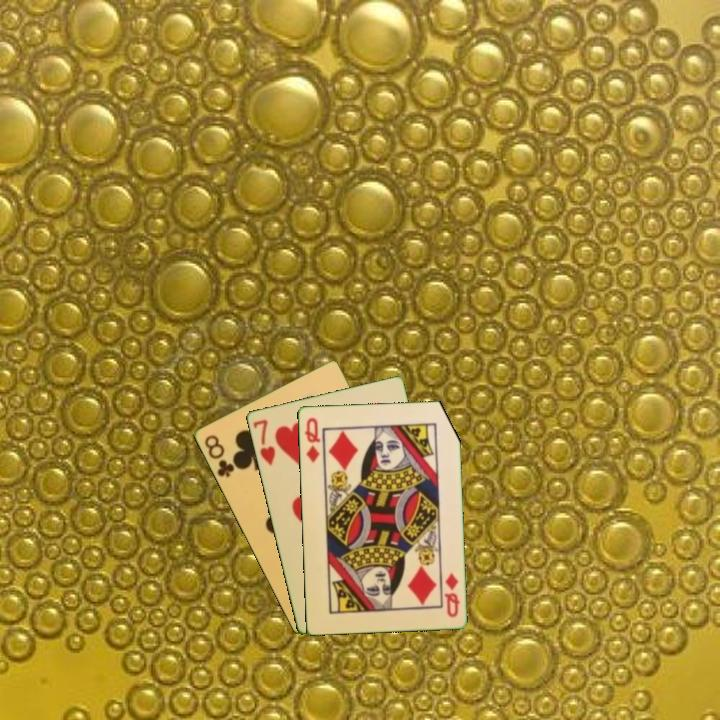7h: (249, 416, 278, 468)
8c: (200, 431, 237, 480)
Qd: (440, 569, 462, 620), (301, 414, 322, 465)
